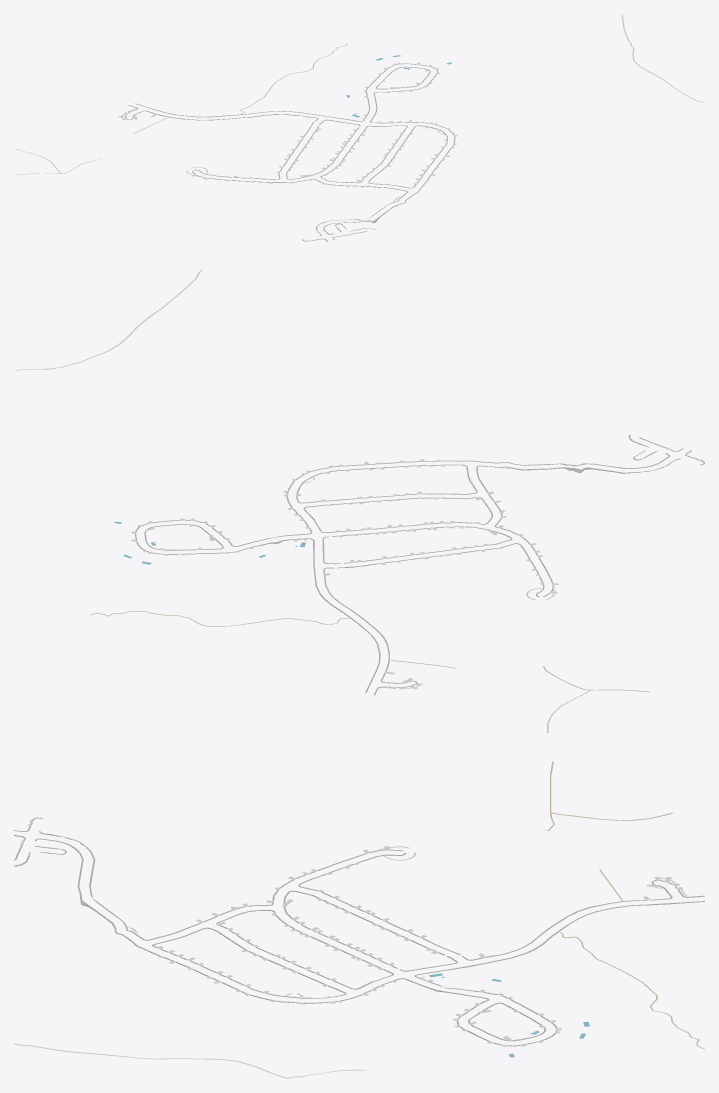
File: ground_r7_c5.glb
3 renders of one model, top to bottom at view 1: azimuth 30°, elevation 25°; view 2: azimuth 150°, elevation 25°; view 3: azimuth 270°, elevation 25°, orthographic. The views are drawn at different scales.
Visible parts, largest first — view 1: sidewalks, driveways, paths; view 2: sidewalks, driveways, paths; view 3: sidewalks, driveways, paths.
Part boxes in pixels (x1,y1,x2,y2): sidewalks: [125, 63, 455, 241]; driveways: [118, 62, 456, 241]; paths: [14, 14, 704, 201]; sidewalks: [135, 434, 704, 695]; driveways: [131, 447, 702, 689]; paths: [14, 270, 649, 732]; sidewalks: [14, 817, 704, 1046]; driveways: [20, 820, 683, 1046]; paths: [14, 761, 704, 1078].
Bounding box in the file's own units: 1125 × 167 × 788.
